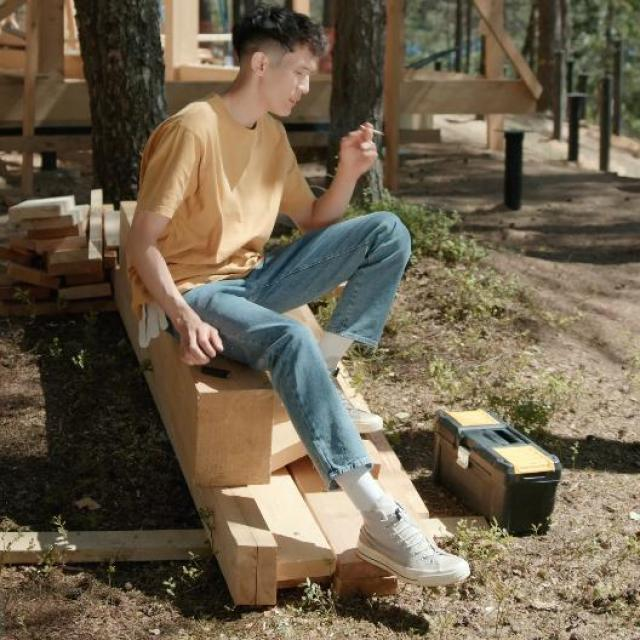cigarette: (343, 113, 395, 162)
